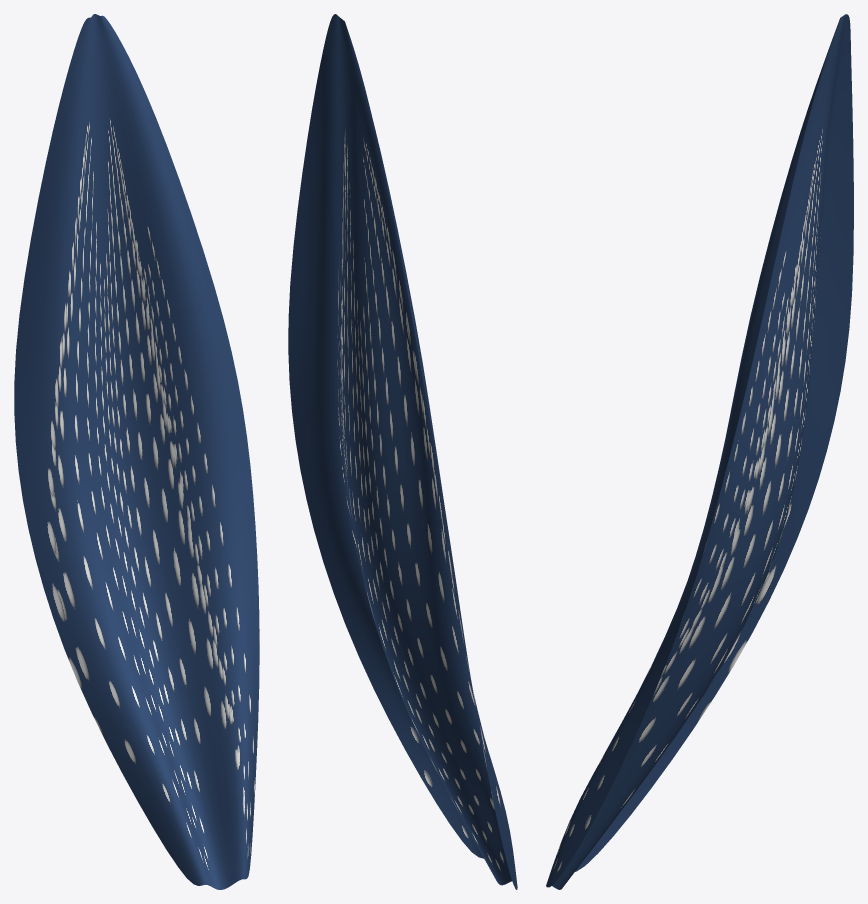
Rendered from leaf.glb.
3 views of the same model, side by side, from view 1: azimuth 30°, elevation 25°; view 2: azimuth 150°, elevation 25°; view 3: azimuth 270°, elevation 25° (orthographic). The views are drawn at different scales.
Visible parts, largest first — view 1: Plane; view 2: Plane; view 3: Plane.
Boxes of the visible parts, x1=… form: Plane: x1=14, y1=14, x2=259, y2=889; Plane: x1=288, y1=14, x2=517, y2=889; Plane: x1=546, y1=14, x2=853, y2=889.
Bounding box in the file's own units: 0.7693 × 3.24 × 1.03.
Materials: 1 (1 with a texture image).
